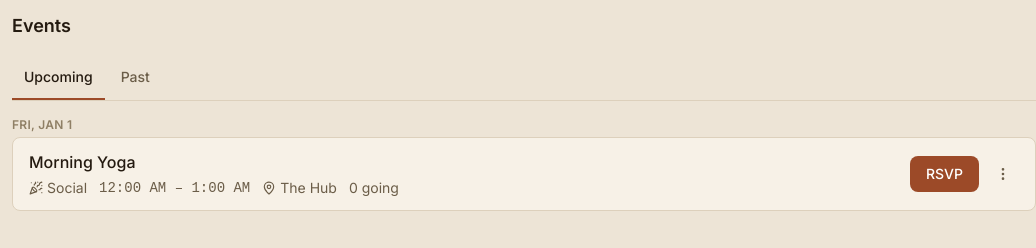
Test case: EventsSection › shows an error and signs out when RSVP fails with an expired session (401)
Click the button "RSVP" at x=944, y=174, box [910, 156, 979, 192]
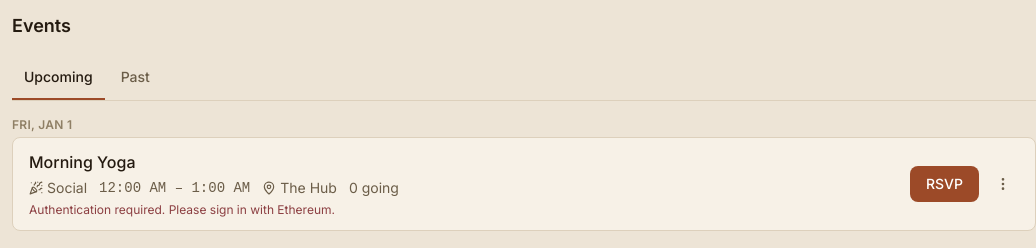
Check: the text "Authentication required. Please sign in with Ethereum." is shown, box [29, 202, 335, 217]
